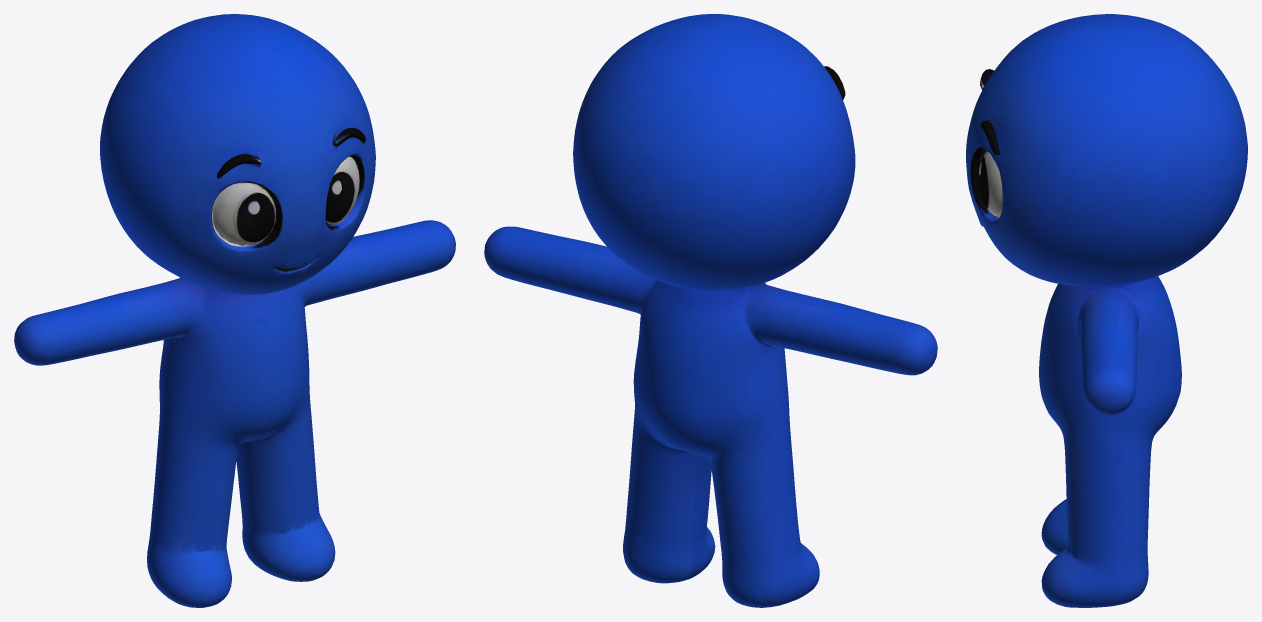
The model's file is blue_preview.glb.
3 renders of one model, left to right at view 1: azimuth 30°, elevation 25°; view 2: azimuth 150°, elevation 25°; view 3: azimuth 270°, elevation 25°, orthographic. The views are drawn at different scales.
Parts seen in each view (by area): view 1: tripo_node_ce139390; view 2: tripo_node_ce139390; view 3: tripo_node_ce139390.
Boxes of the visible parts, x1=… form: tripo_node_ce139390: x1=14, y1=14, x2=455, y2=607; tripo_node_ce139390: x1=484, y1=14, x2=937, y2=607; tripo_node_ce139390: x1=966, y1=14, x2=1247, y2=607.
Size of the model in its own units: 0.8303 by 0.9999 by 0.4638.
1 material, 1 textured.
